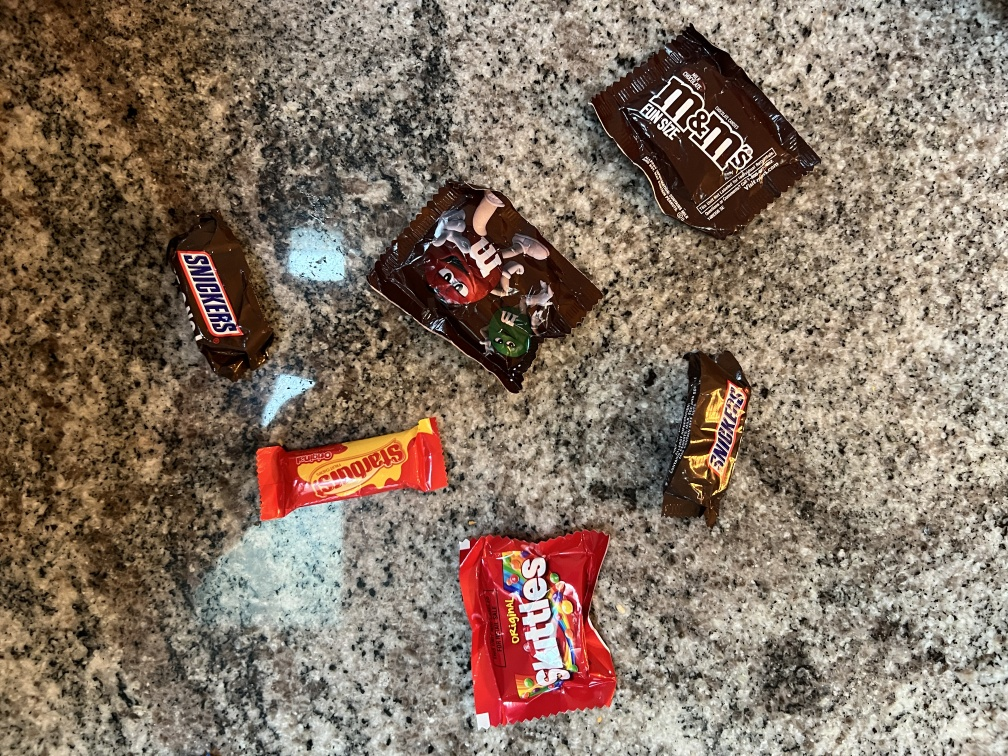MMs_peanut: (572, 6, 832, 249), (344, 190, 598, 387), (654, 338, 761, 537)
skittles: (428, 530, 648, 718)
snickers: (162, 188, 279, 386)
starbust: (241, 421, 463, 513)
